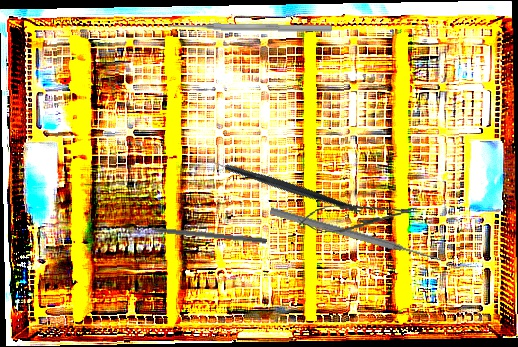Chopper: (196, 114, 354, 258)
Needle Holder: (296, 195, 421, 238)
Pusher: (268, 205, 443, 266), (133, 223, 267, 244), (166, 20, 333, 34)
